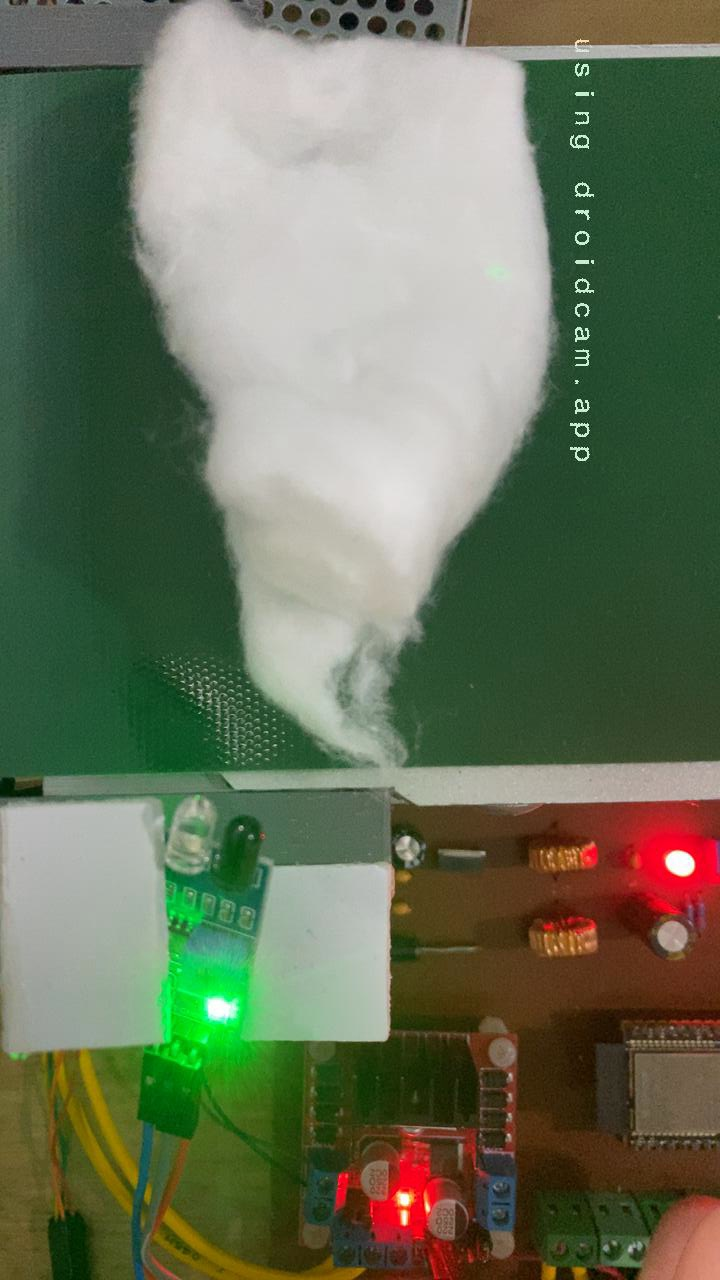cotton: (122, 67, 720, 798)
